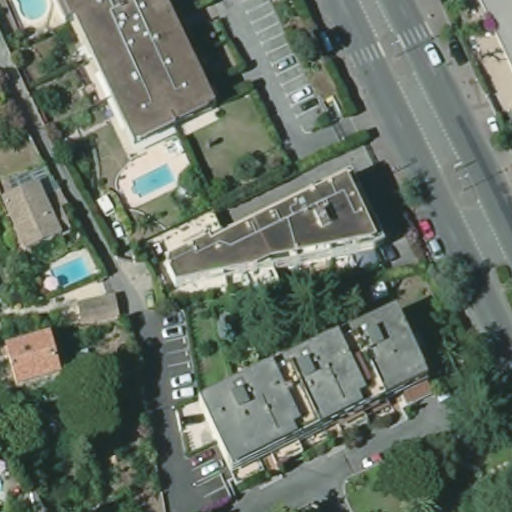pool: (128, 161, 177, 197), (51, 255, 92, 289), (14, 1, 52, 24)
